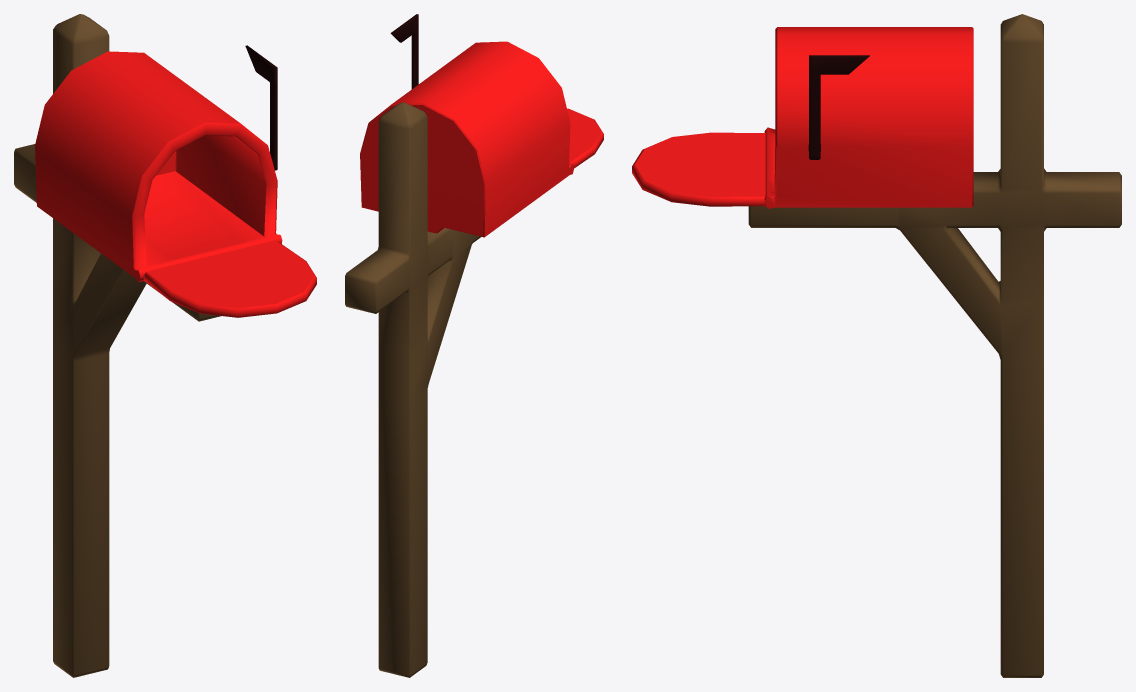
Rendered from Mailbox.FBX.
3 renders of one model, left to right at view 1: azimuth 30°, elevation 25°; view 2: azimuth 150°, elevation 25°; view 3: azimuth 270°, elevation 25°, orthographic. The views are drawn at different scales.
Visible parts, largest first — view 1: Mailbox_low; view 2: Mailbox_low; view 3: Mailbox_low.
Part boxes in pixels (x1,y1,x2,y2): Mailbox_low: (14,14,316,677); Mailbox_low: (345,14,603,677); Mailbox_low: (632,14,1121,677).
Size of the model in its own units: 0.1425 by 0.5506 by 0.3718.
